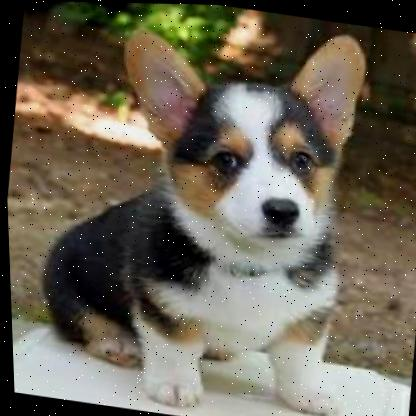dog: (18, 0, 388, 416)
